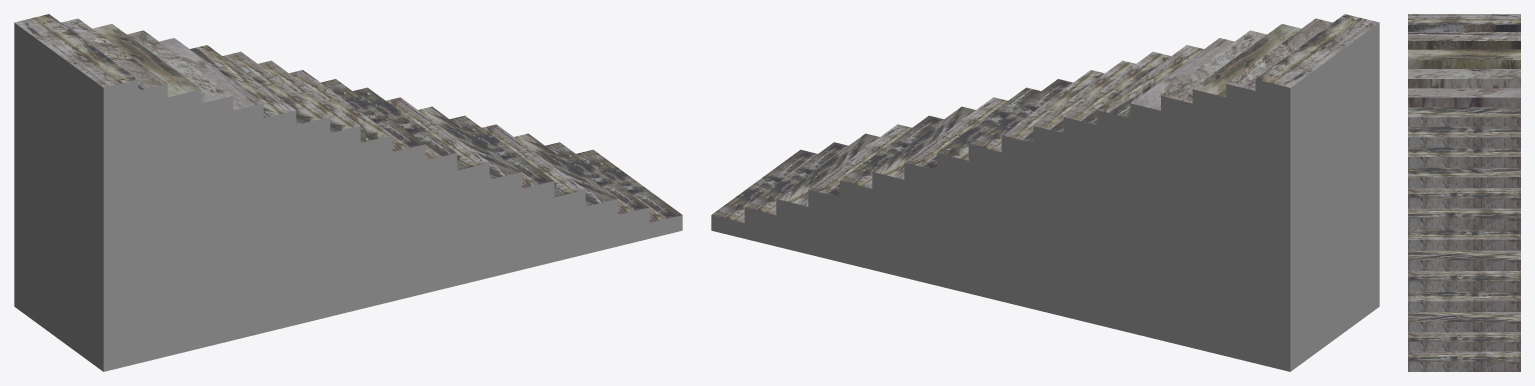
The model's file is escada-textura.fbx.
3 renders of one model, left to right at view 1: azimuth 30°, elevation 25°; view 2: azimuth 150°, elevation 25°; view 3: azimuth 270°, elevation 25°, orthographic. The views are drawn at different scales.
Parts seen in each view (by area): view 1: pCube1; view 2: pCube1; view 3: pCube1.
Part boxes in pixels (bbox=[...]): pCube1: bbox=[14, 14, 682, 371]; pCube1: bbox=[711, 14, 1379, 371]; pCube1: bbox=[1408, 14, 1520, 371].
Size of the model in its own units: 36.14 by 16.94 by 9.66.
